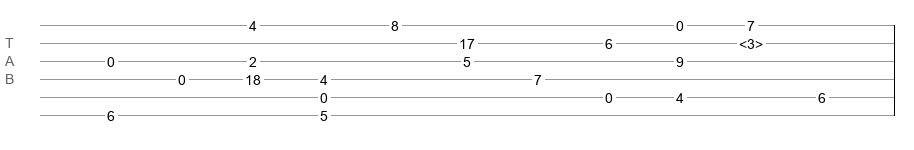0: (107, 54, 115, 64), (178, 72, 186, 82), (320, 90, 328, 100), (605, 90, 613, 100), (676, 18, 684, 28)
17: (459, 36, 475, 46)
18: (245, 72, 261, 82)
2: (249, 54, 257, 64)
4: (249, 18, 257, 28), (320, 72, 328, 82), (676, 90, 684, 100)
5: (320, 108, 328, 118), (463, 54, 471, 64)
6: (107, 108, 115, 118), (605, 36, 613, 46), (818, 90, 826, 100)
7: (534, 72, 542, 82), (747, 18, 755, 28)
8: (391, 18, 399, 28)
9: (676, 54, 684, 64)
harmonic: (739, 36, 763, 46)
